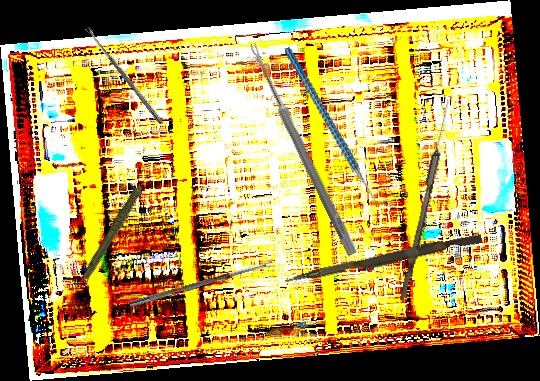Chopper: (284, 34, 391, 222)
Handpiece: (64, 172, 173, 281)
Pusher: (284, 228, 483, 292)
Surgical Spoon: (246, 41, 359, 257), (399, 98, 453, 302), (85, 26, 164, 125), (128, 260, 275, 309)
